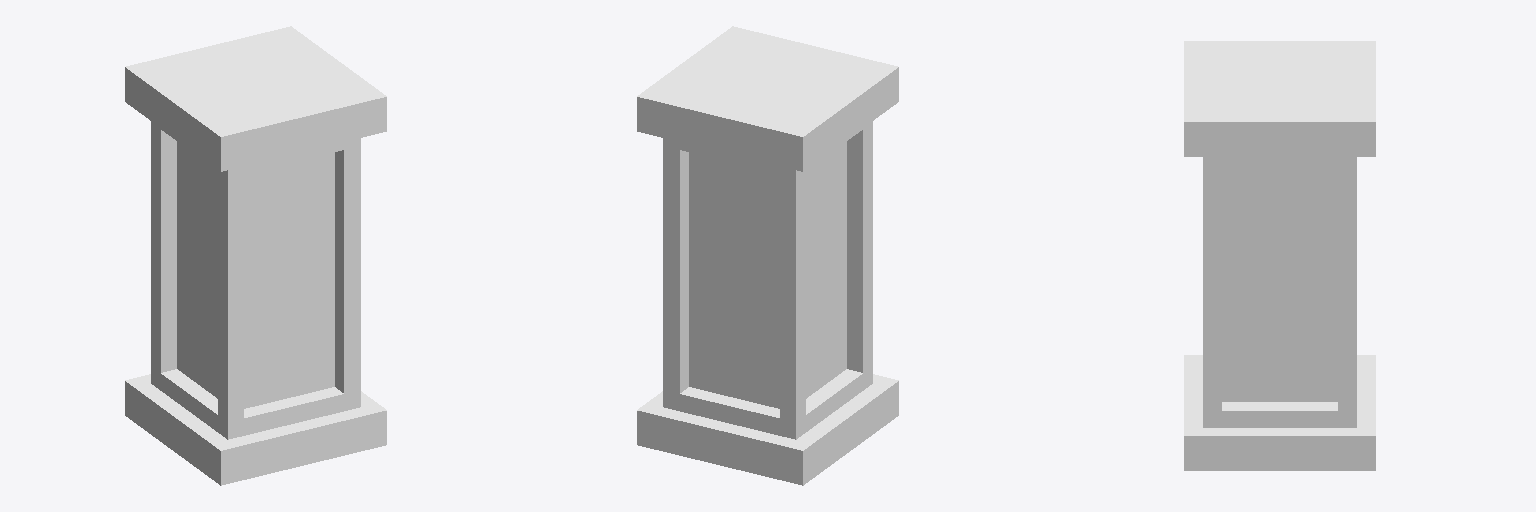
File: pillar_10_20_10.obj
3 renders of one model, left to right at view 1: azimuth 30°, elevation 25°; view 2: azimuth 150°, elevation 25°; view 3: azimuth 270°, elevation 25°, orthographic.
Parts seen in each view (by area): view 1: object 1; view 2: object 1; view 3: object 1.
Part boxes in pixels (x1,y1,x2,y2): object 1: (125,26,386,485); object 1: (637,26,898,485); object 1: (1184,41,1375,470).
Size of the model in its own units: 1 by 2 by 1.